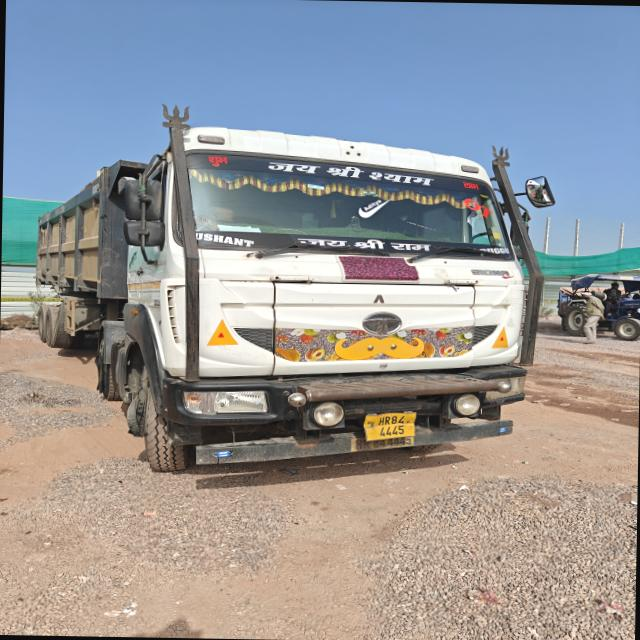license_plate: (365, 413, 416, 441), (351, 437, 413, 451)
